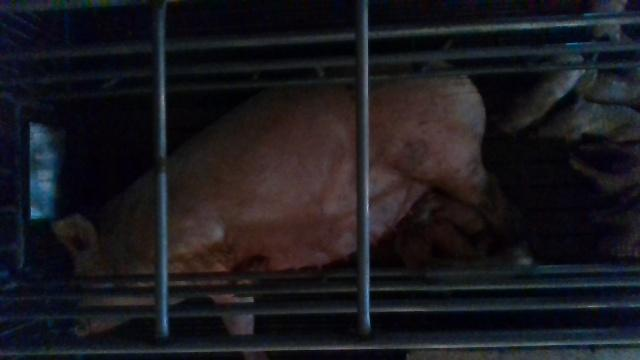piglet: (493, 51, 587, 137), (534, 98, 640, 144), (412, 208, 478, 259), (425, 189, 486, 235), (575, 68, 640, 107)
sow-sleep-lactate: (49, 59, 508, 359)
